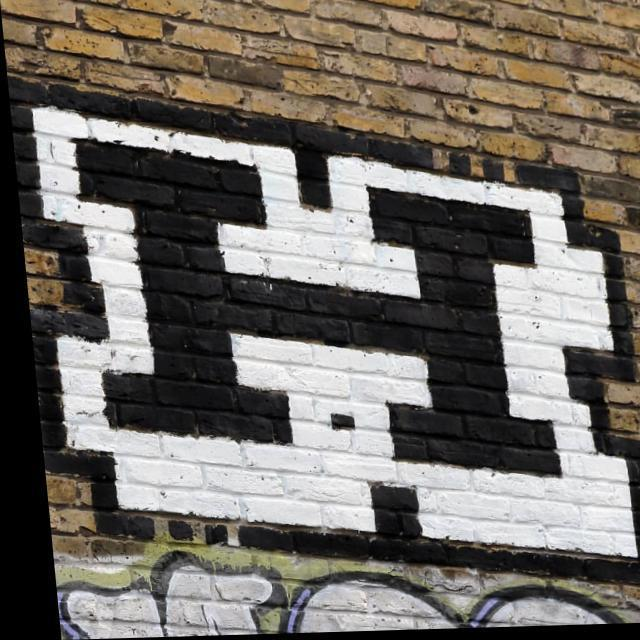-: (6, 61, 640, 608), (41, 525, 640, 640)
